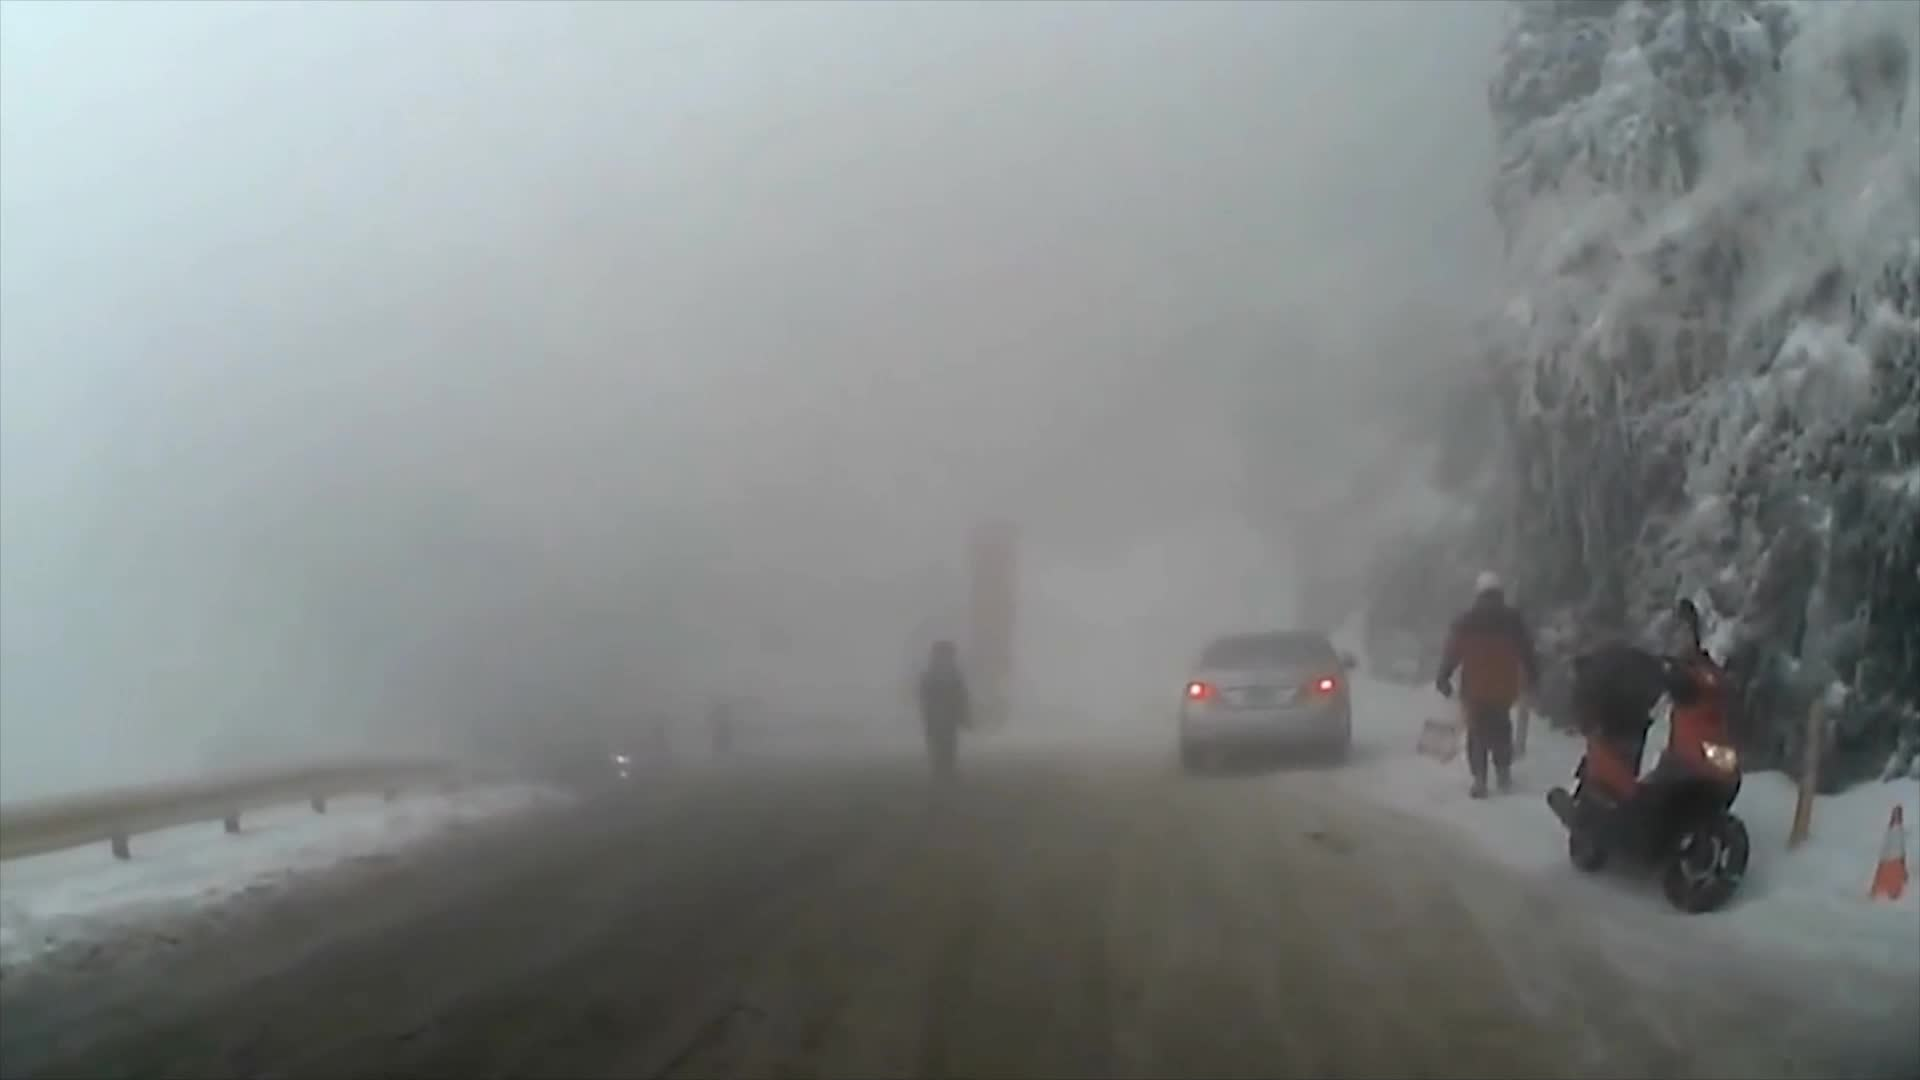pedestrian: (1434, 575, 1542, 808), (917, 641, 967, 794)
vehicle: (1180, 631, 1361, 778)
